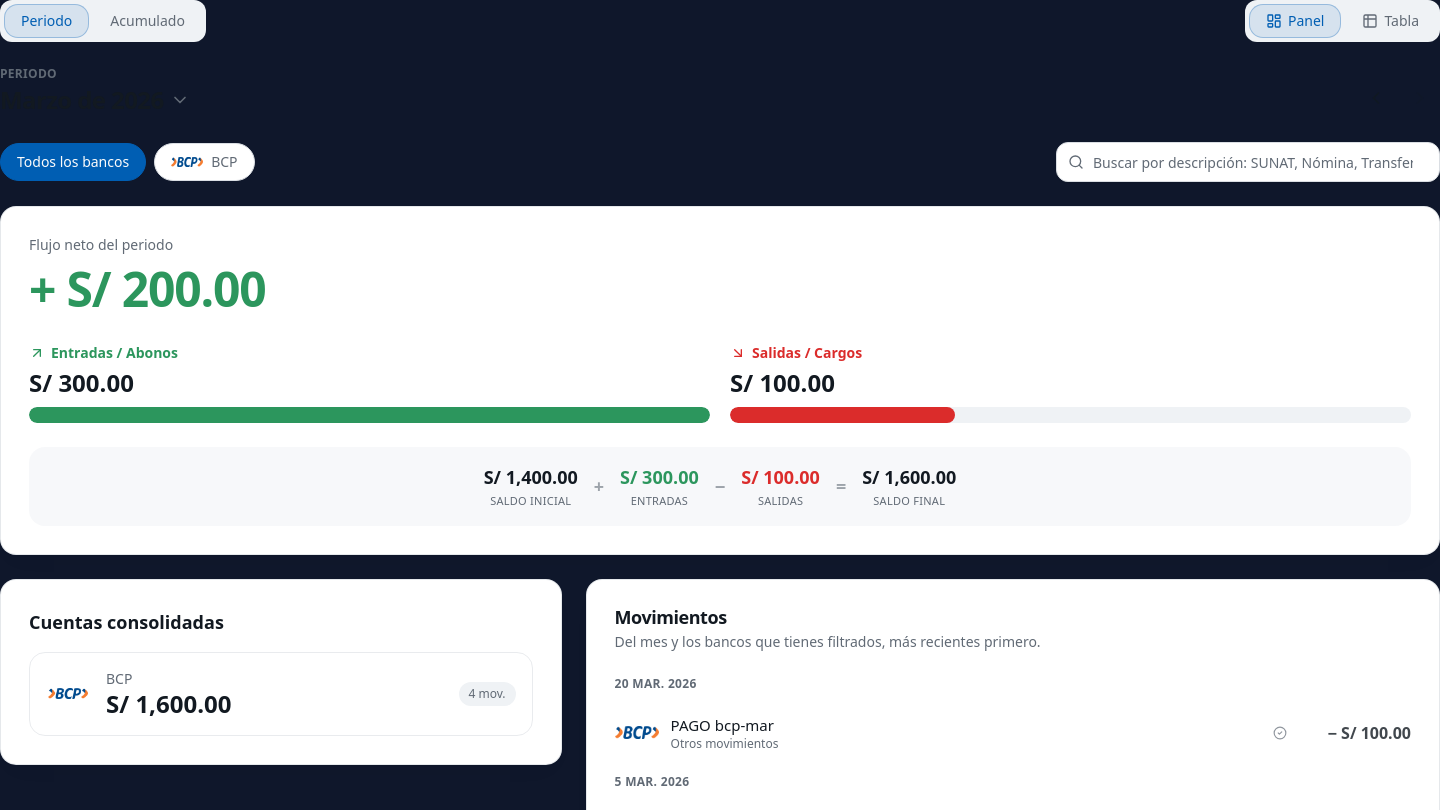
Test: FinancialCenter: visualización y alcance › Panel acumulado: con un mes faltante no presenta un saldo global
Step 1. Click the button "Acumulado" → click(148, 21), box [93,4,202,38]
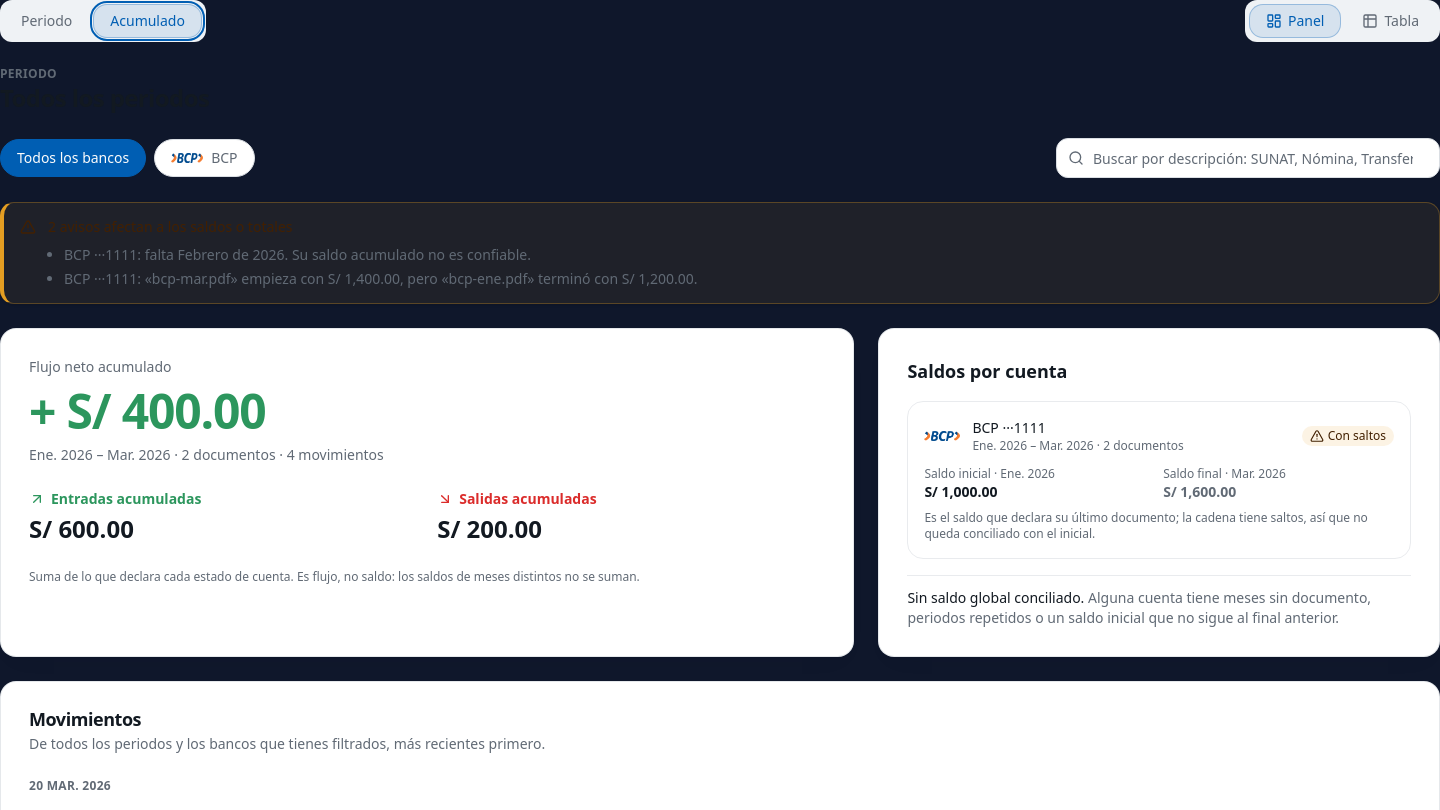
Expected: the text "Sin saldo global conciliado." is shown, [907,588,1084,607]
Expected: the text "Con saltos" is shown, [1302,426,1394,446]
Expected: the list item "falta Febrero de 2026" is shown, [64,245,531,264]
